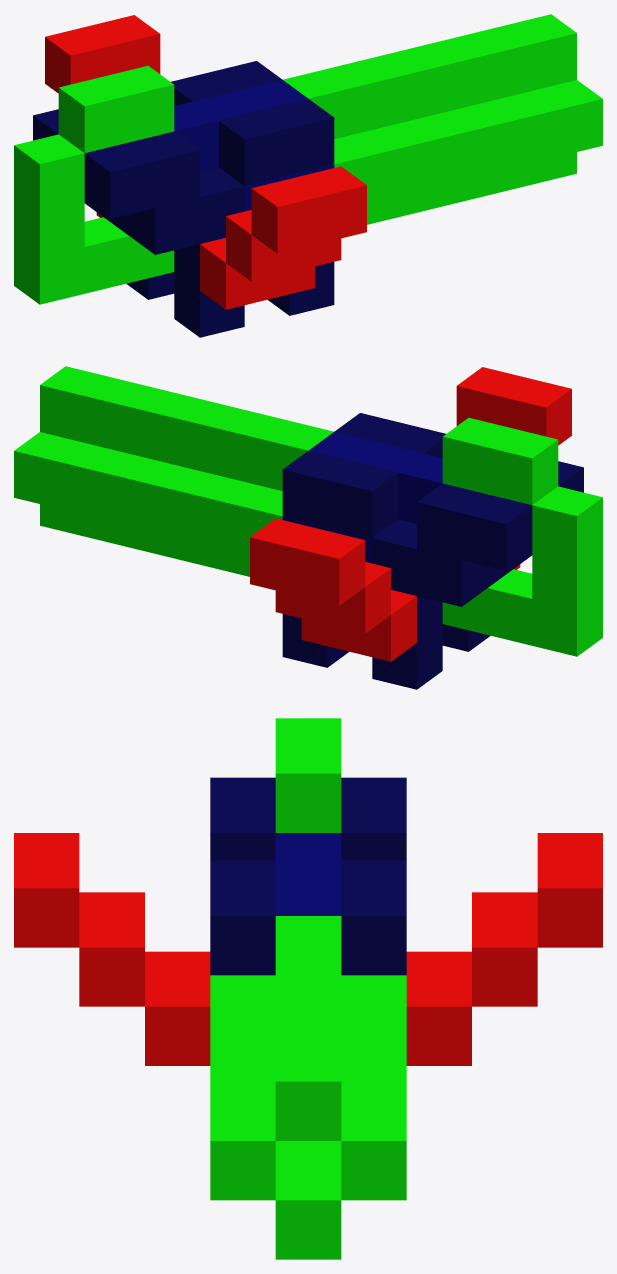
Rendered from weapon_canon.gltf.
3 views of the same model, one above another, from view 1: azimuth 30°, elevation 25°; view 2: azimuth 150°, elevation 25°; view 3: azimuth 270°, elevation 25° (orthographic). The views are drawn at different scales.
Size of the model in its own units: 12 by 5 by 9.
Materials: 4 (4 with a texture image).
